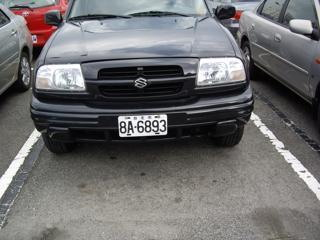plate: (116, 113, 168, 140)
